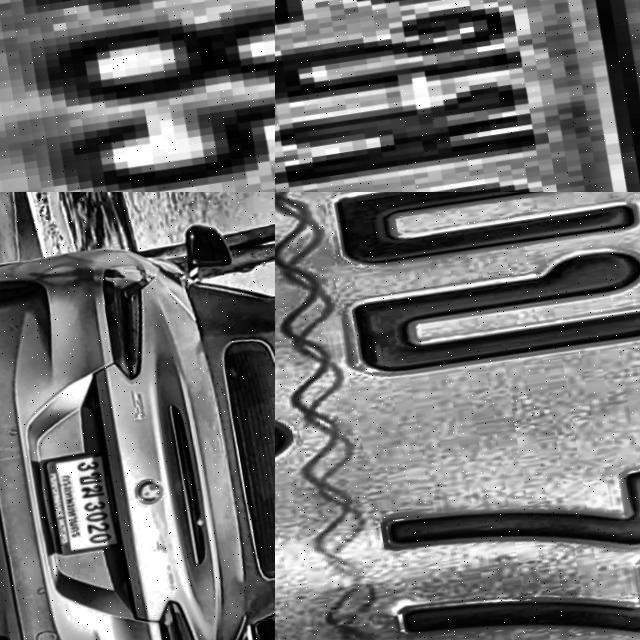license-plate: (275, 192, 640, 640), (275, 0, 640, 192), (0, 0, 275, 192), (38, 450, 122, 558)
